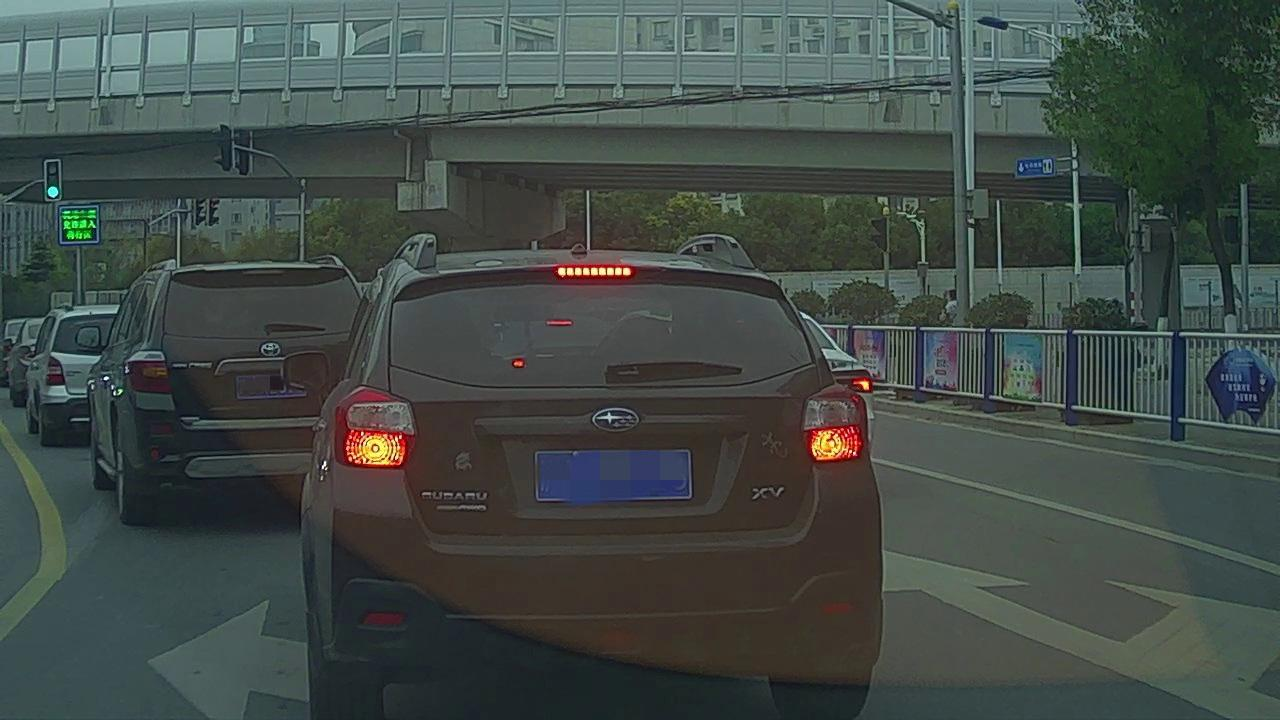traffic_light: (45, 161, 59, 200)
